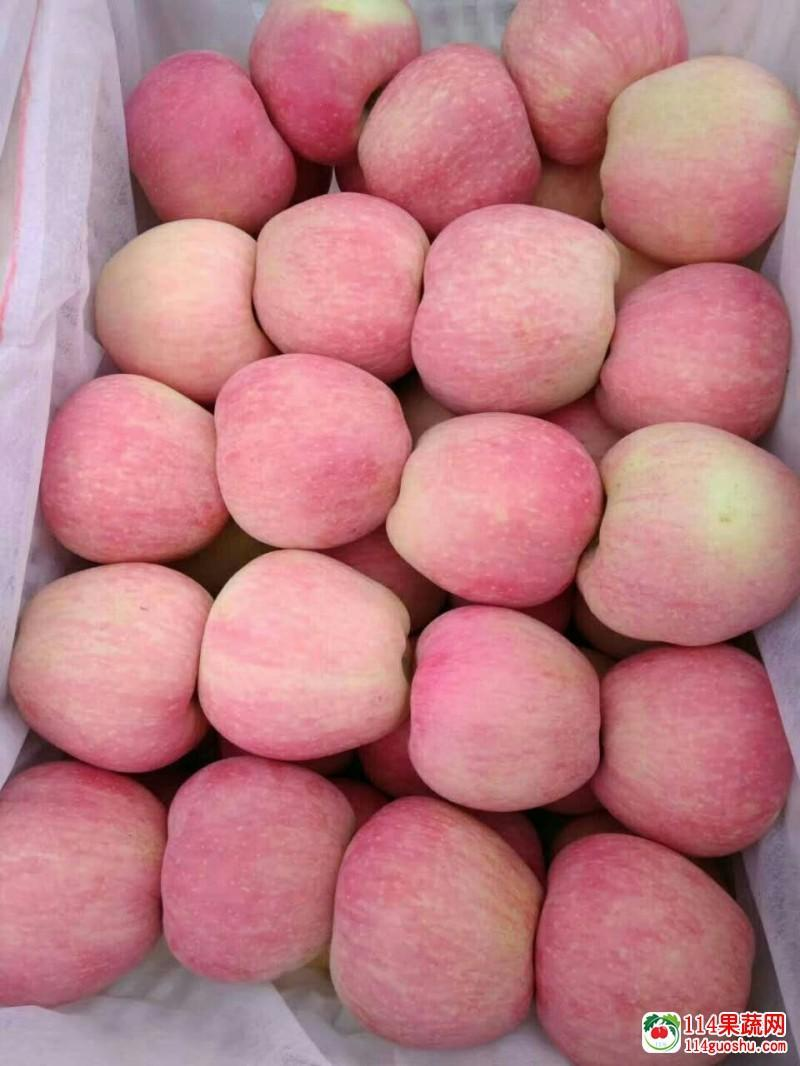apple: (328, 796, 544, 1049), (574, 423, 800, 650), (530, 832, 752, 1060), (158, 759, 356, 985), (595, 55, 800, 273), (3, 562, 209, 778), (209, 345, 412, 554), (402, 605, 605, 814), (199, 544, 402, 753), (389, 405, 592, 614), (415, 199, 618, 408), (1, 763, 162, 1003), (347, 43, 540, 236), (36, 375, 228, 565), (121, 49, 296, 235), (256, 188, 425, 375), (602, 269, 785, 440), (92, 220, 275, 391), (504, 3, 697, 164), (250, 1, 415, 173)
